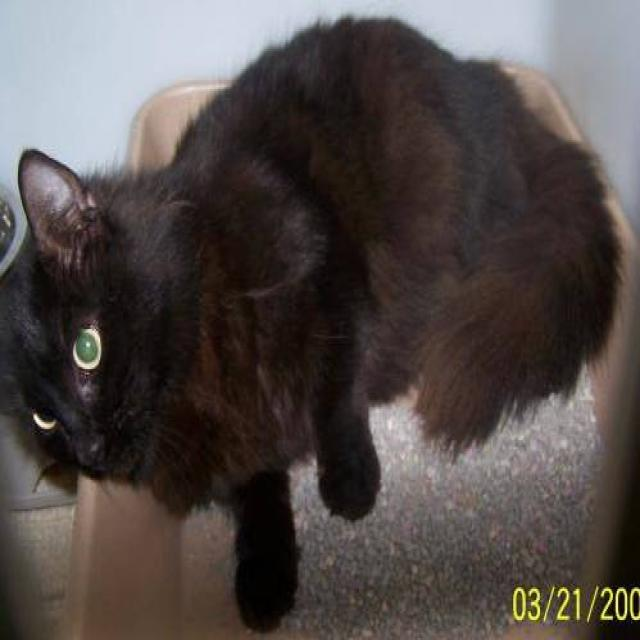Cat: (2, 146, 174, 498)
